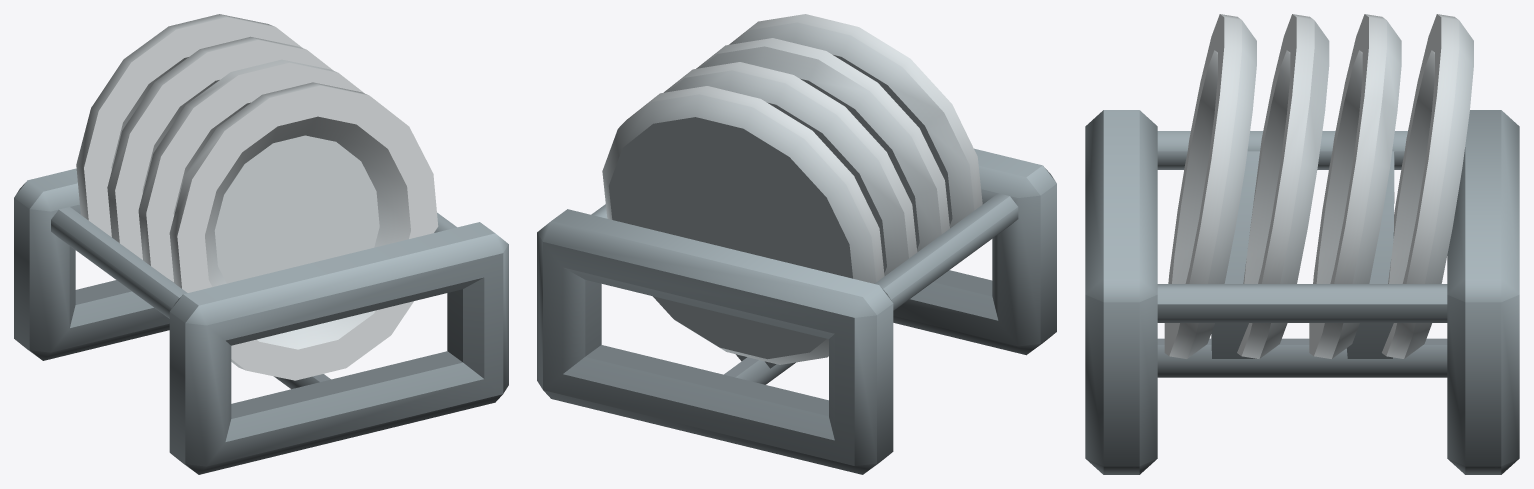
File: dishrack_plates.obj
3 views of the same model, side by side, from view 1: azimuth 30°, elevation 25°; view 2: azimuth 150°, elevation 25°; view 3: azimuth 270°, elevation 25° (orthographic). The views are drawn at different scales.
Parts seen in each view (by area): view 1: dishrack_plates_Cylinder.154; view 2: dishrack_plates_Cylinder.154; view 3: dishrack_plates_Cylinder.154.
Boxes of the visible parts, x1=… form: dishrack_plates_Cylinder.154: x1=14, y1=14, x2=508, y2=474; dishrack_plates_Cylinder.154: x1=537, y1=14, x2=1056, y2=474; dishrack_plates_Cylinder.154: x1=1085, y1=14, x2=1519, y2=474.
Size of the model in its own units: 1.2 by 1.1 by 1.2.
Materials: 1 (1 with a texture image).
